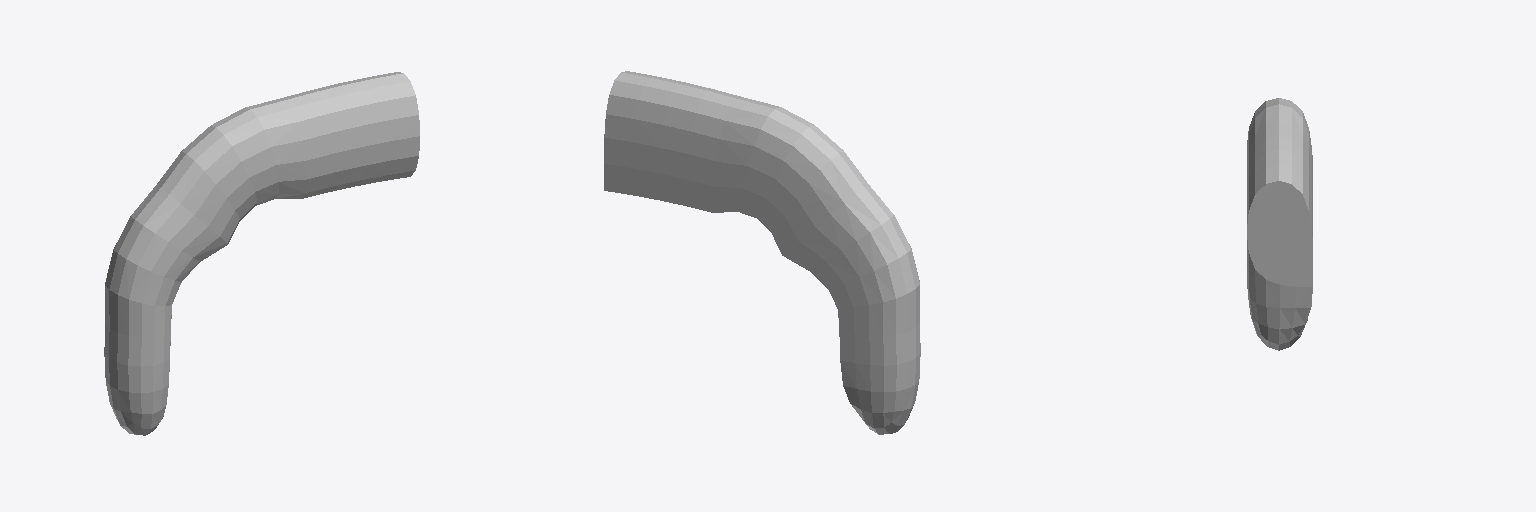
Rendered from motionbuilder_sausage_rrss_12.obj.
3 views of the same model, side by side, from view 1: azimuth 30°, elevation 25°; view 2: azimuth 150°, elevation 25°; view 3: azimuth 270°, elevation 25° (orthographic).
Parts seen in each view (by area): view 1: Skin; view 2: Skin; view 3: Skin.
Part boxes in pixels (x1,y1,x2,y2): Skin: (104,72,419,435); Skin: (604,71,920,434); Skin: (1247,98,1312,350).
Bounding box in the file's own units: 9.89 × 9.61 × 1.94.